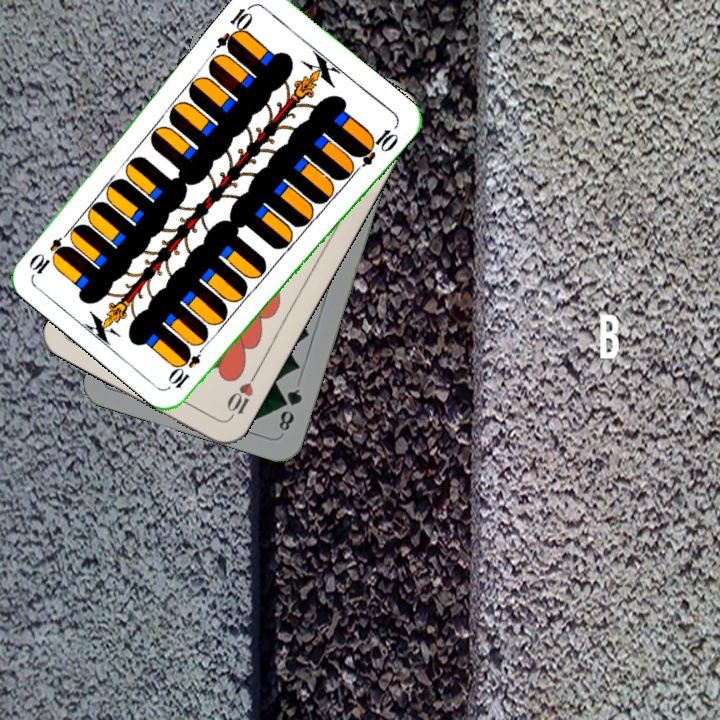E10: (165, 338, 210, 391), (212, 1, 256, 55)
G8: (275, 384, 305, 434)
H10: (222, 368, 260, 422)
